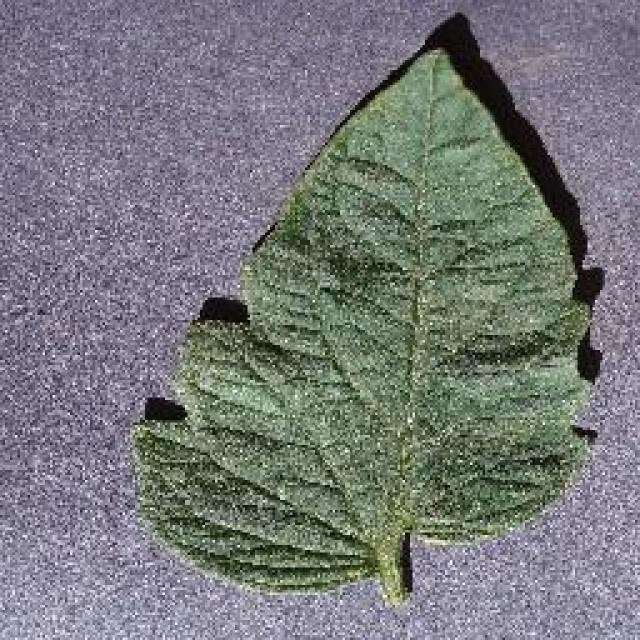Tomato_Healthy: (111, 34, 592, 588)
